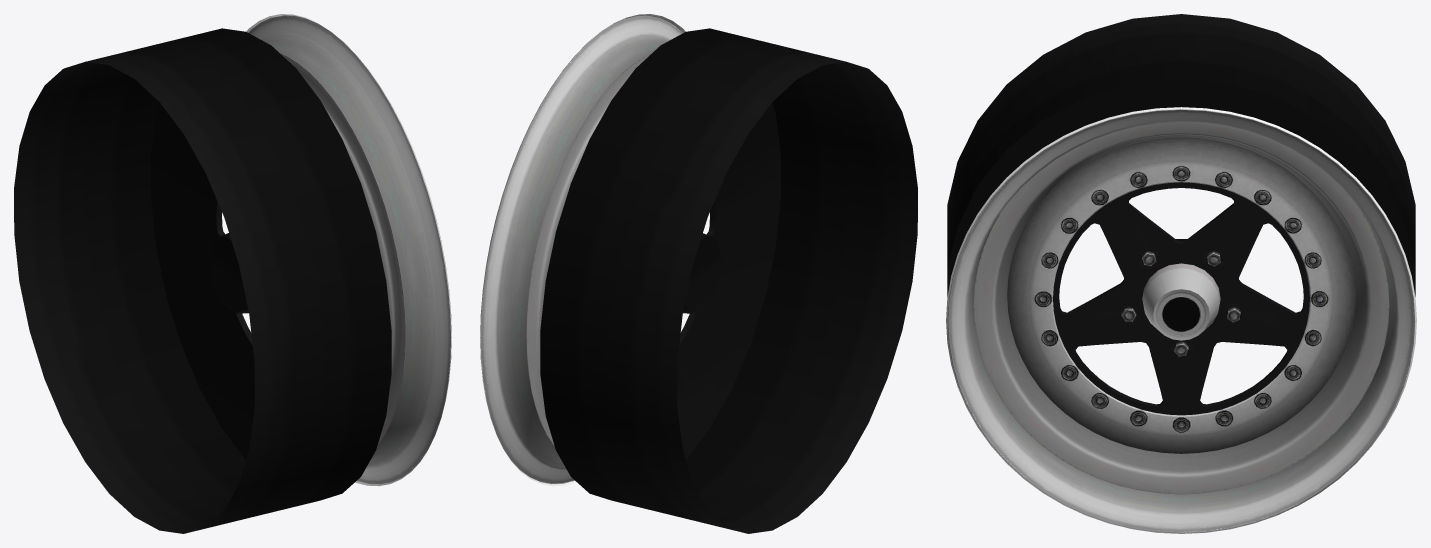
The model's file is wheel46.fbx.
3 views of the same model, side by side, from view 1: azimuth 30°, elevation 25°; view 2: azimuth 150°, elevation 25°; view 3: azimuth 270°, elevation 25° (orthographic). The views are drawn at different scales.
Visible parts, largest first — view 1: hol_hole_star_wheel_wheel_inner_rim_, wheel_rim, hol_hole_star_wheel_wheel_chrome_rim_; view 2: hol_hole_star_wheel_wheel_inner_rim_, wheel_rim, hol_hole_star_wheel_wheel_chrome_rim_; view 3: wheel_rim, hol_hole_star_wheel_wheel_chrome_rim_, hol_hole_star_wheel_wheel_inner_rim_, hol_hole_star_wheel_wheel_rim_.
Boxes of the visible parts, x1,y1,x2,y2 form: hol_hole_star_wheel_wheel_inner_rim_: (14,28,391,533); wheel_rim: (246,14,451,486); hol_hole_star_wheel_wheel_chrome_rim_: (253,14,445,468); hol_hole_star_wheel_wheel_inner_rim_: (540,28,917,533); wheel_rim: (480,14,682,486); hol_hole_star_wheel_wheel_chrome_rim_: (481,24,685,482); wheel_rim: (946,107,1416,533); hol_hole_star_wheel_wheel_chrome_rim_: (957,112,1413,532); hol_hole_star_wheel_wheel_inner_rim_: (947,14,1415,296); hol_hole_star_wheel_wheel_rim_: (1053,182,1309,415).
Bounding box in the file's own units: 0.2269 × 0.48 × 0.48.
1 material, 1 textured.
